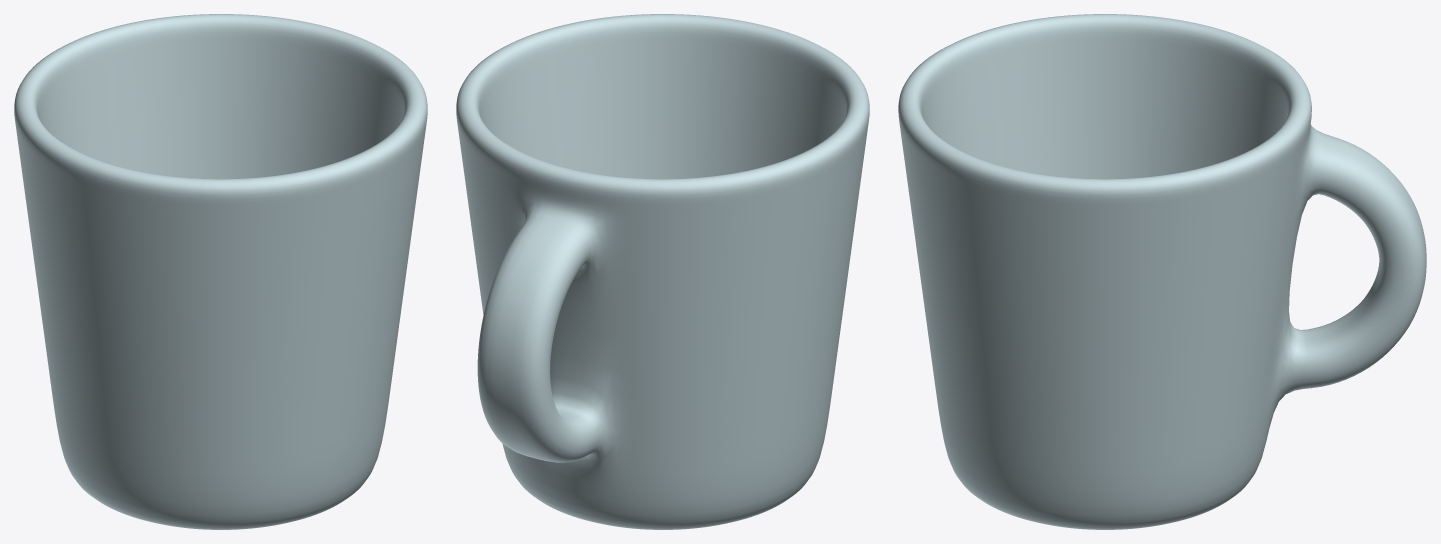
The picture shows the model from 3 angles, left to right: view 1: azimuth 30°, elevation 25°; view 2: azimuth 150°, elevation 25°; view 3: azimuth 270°, elevation 25°; orthographic projection.
Parts seen in each view (by area): view 1: Circle; view 2: Circle; view 3: Circle.
Boxes of the visible parts, left/top/right/bottom form: Circle: left=14, top=14, right=427, bottom=529; Circle: left=456, top=14, right=869, bottom=529; Circle: left=898, top=14, right=1426, bottom=529.
Size of the model in its own units: 167 by 169 by 214.
